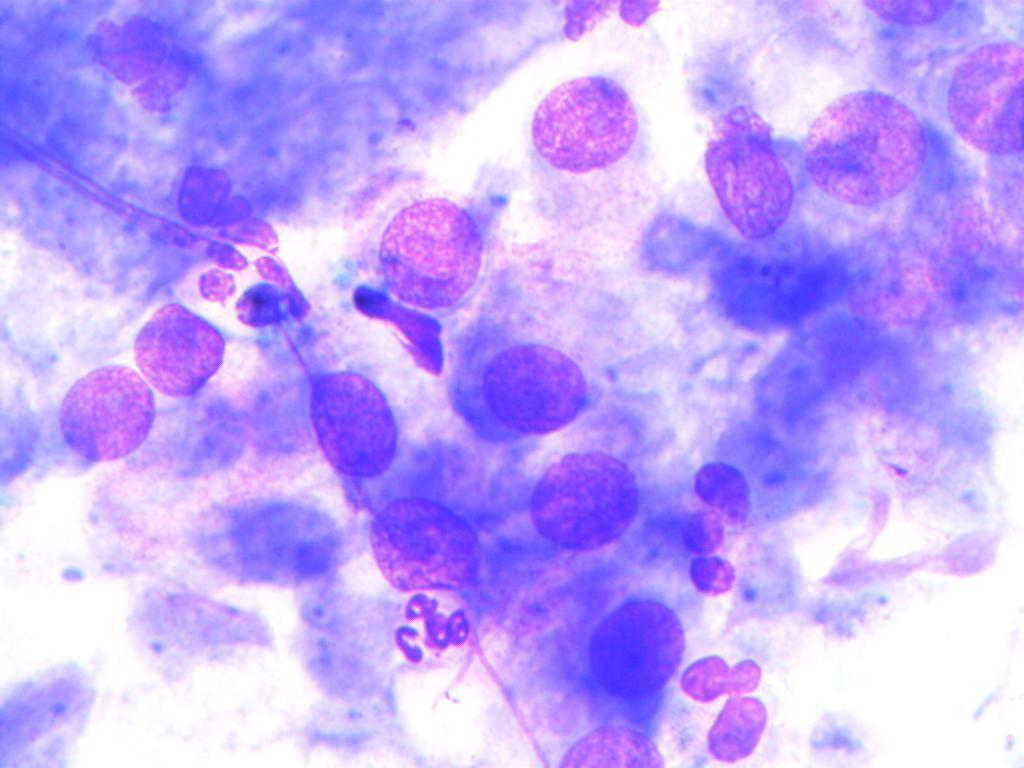epithelial: (516, 561, 692, 726), (445, 313, 613, 465), (343, 162, 493, 315), (529, 69, 655, 238), (800, 70, 935, 225), (514, 448, 662, 575), (683, 103, 798, 244), (356, 488, 501, 595), (41, 363, 153, 481), (840, 228, 948, 345), (937, 25, 1024, 159), (299, 365, 404, 473), (124, 292, 229, 399), (539, 710, 674, 768)
neutrophil: (176, 196, 322, 350), (665, 450, 774, 614), (664, 640, 803, 768), (372, 584, 484, 674), (153, 155, 264, 231)
